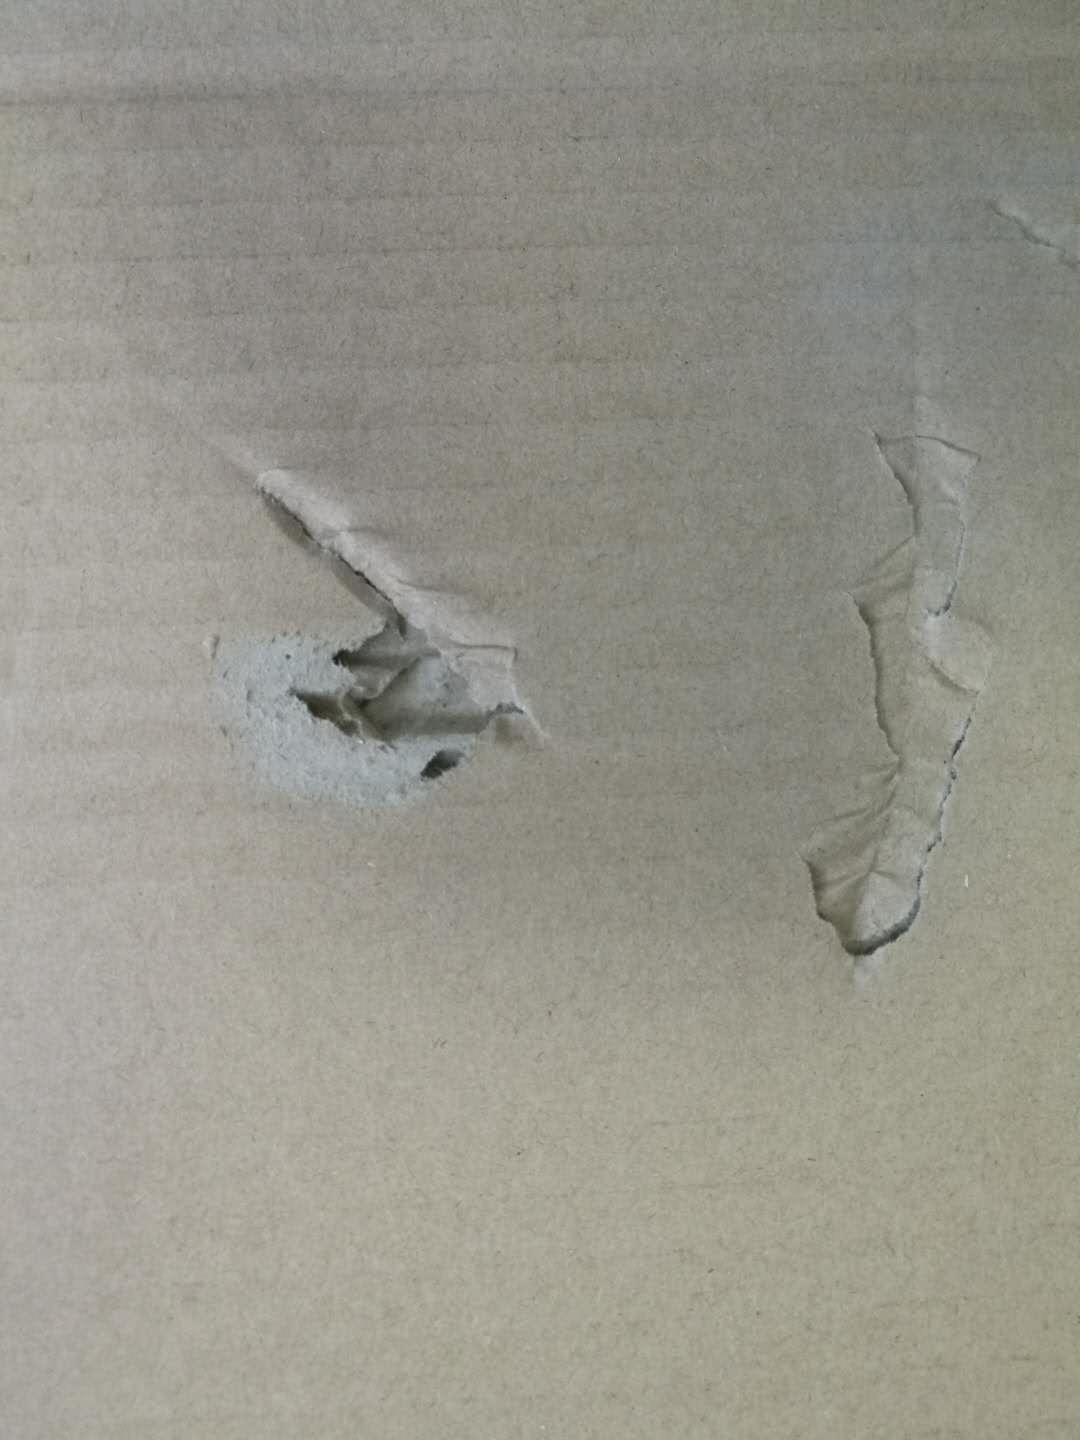defect: (140, 384, 587, 855), (779, 299, 1012, 1010), (960, 179, 1080, 293)
